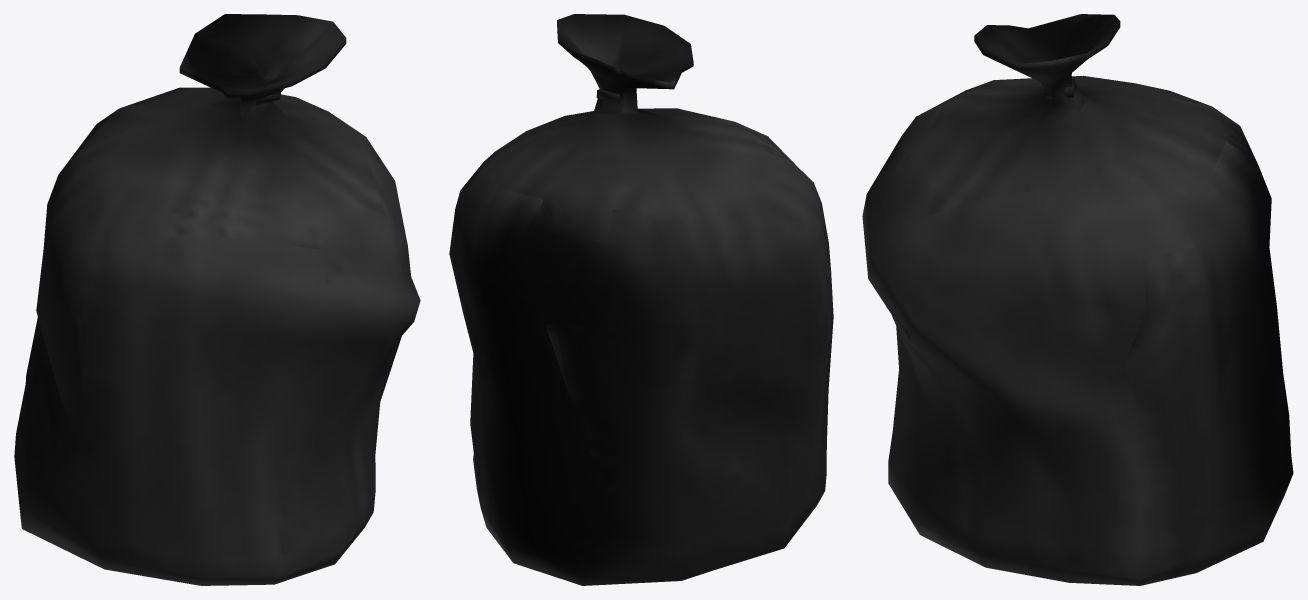
File: Garbage_Bag_06.fbx
3 renders of one model, left to right at view 1: azimuth 30°, elevation 25°; view 2: azimuth 150°, elevation 25°; view 3: azimuth 270°, elevation 25°, orthographic. The views are drawn at different scales.
Visible parts, largest first — view 1: Bag_02_low; view 2: Bag_02_low; view 3: Bag_02_low.
Part boxes in pixels (left/top/right/bottom): Bag_02_low: left=14, top=14, right=420, bottom=585; Bag_02_low: left=449, top=14, right=833, bottom=585; Bag_02_low: left=862, top=14, right=1293, bottom=585.
Size of the model in its own units: 45.67 by 63.98 by 47.73.
